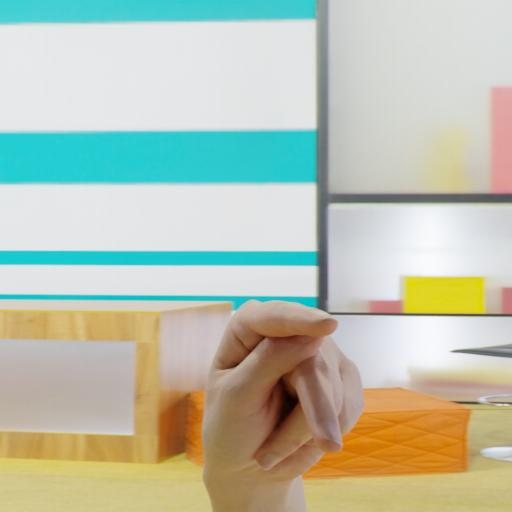P: (195, 288, 374, 508)
